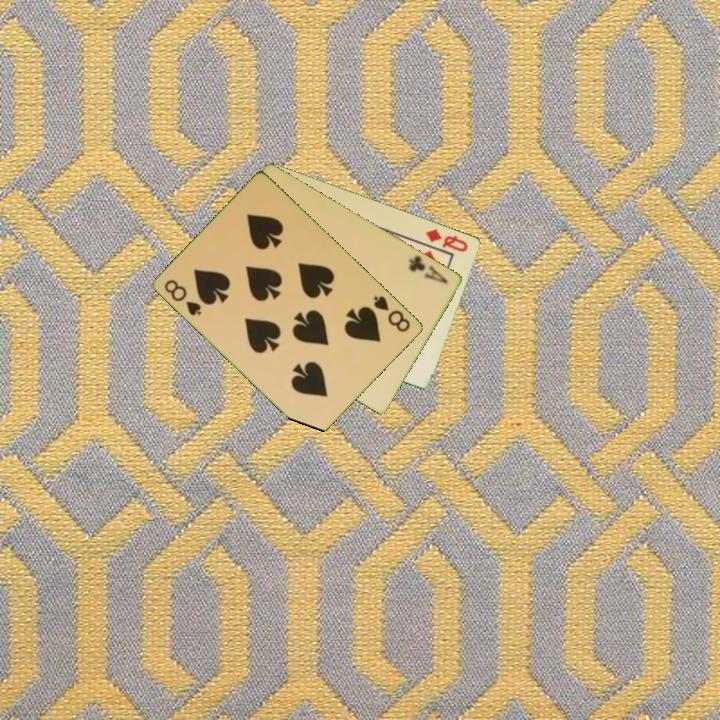8s: (370, 292, 414, 335), (161, 276, 205, 319)
Ac: (405, 251, 452, 287)
Qd: (422, 225, 471, 255)
